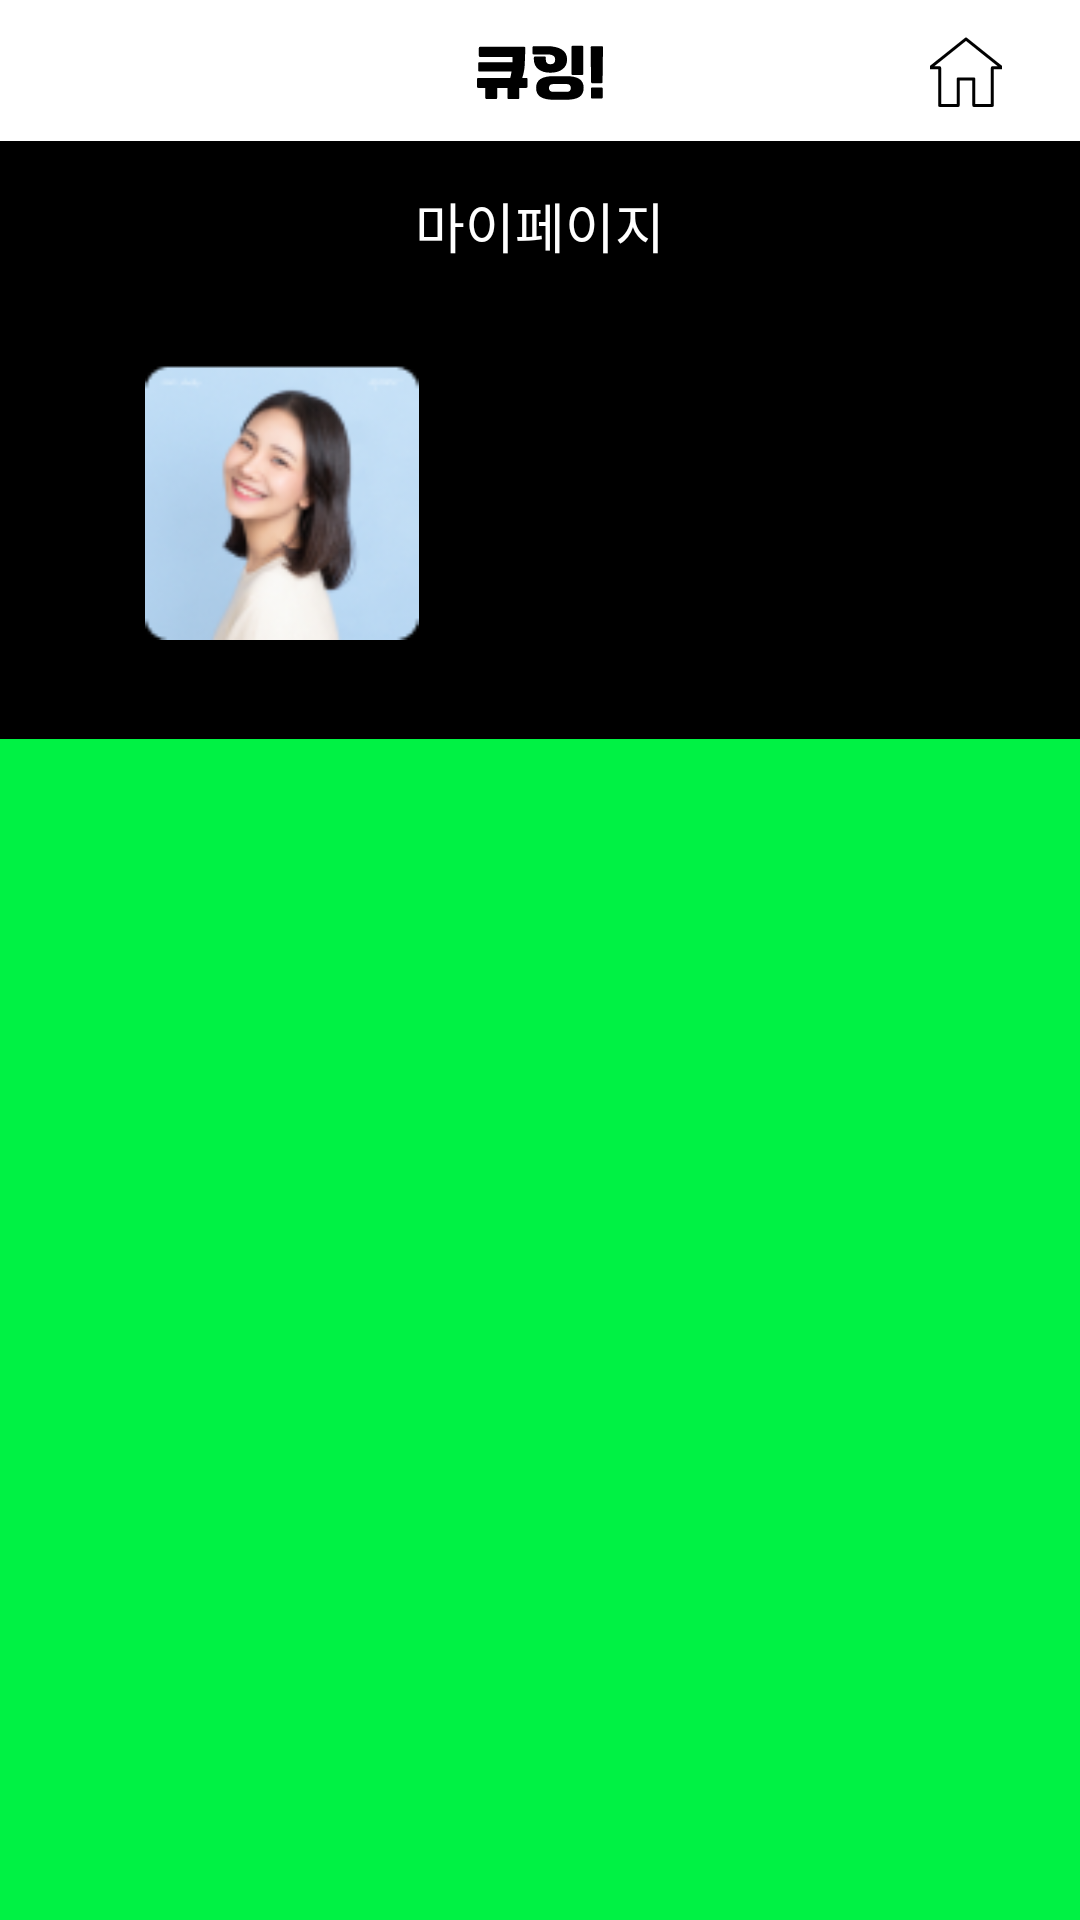

Point at icon controls on the screen. Image size 1080 x 1920, points as (x,y).
home: (966,72)
